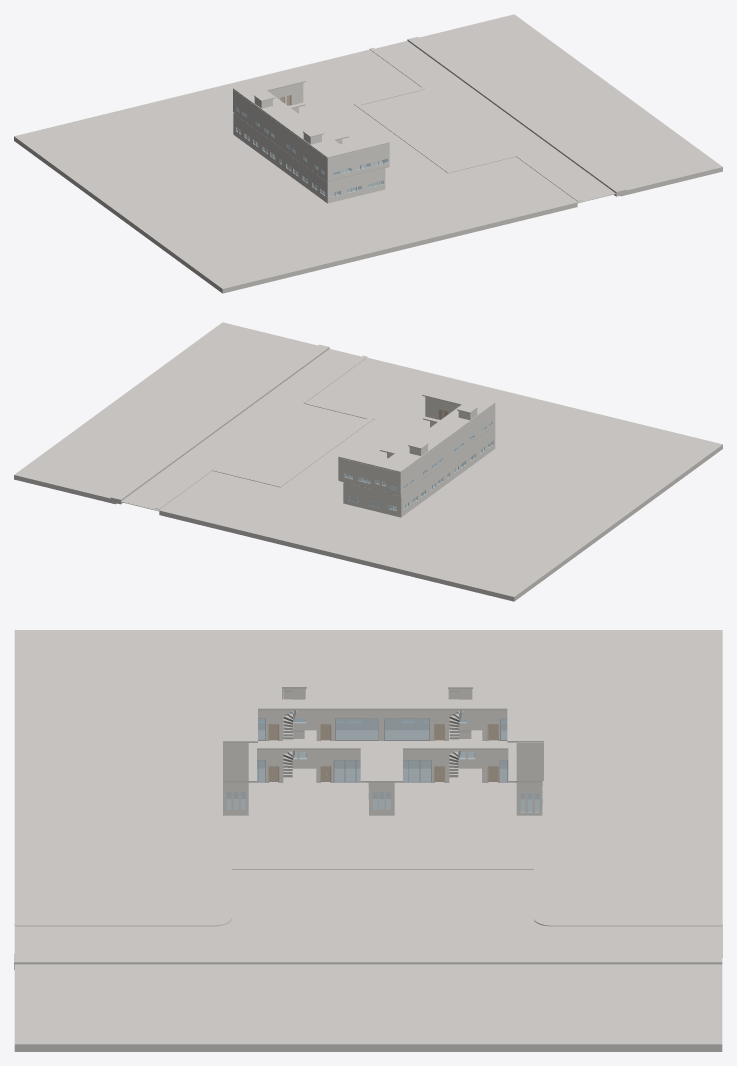
3 renders of one model, top to bottom at view 1: azimuth 30°, elevation 25°; view 2: azimuth 150°, elevation 25°; view 3: azimuth 270°, elevation 25°, orthographic. The views are drawn at different scales.
Visible parts, largest first — view 1: slab, wall, glazing; view 2: slab, wall, glazing; view 3: slab, wall, glazing, door, stair, mullion.
Part boxes in pixels (x1=…): slab: x1=14, y1=14, x2=722, y2=293; wall: x1=233, y1=82, x2=389, y2=203; glazing: x1=236, y1=107, x2=387, y2=196; slab: x1=14, y1=322, x2=722, y2=601; wall: x1=338, y1=396, x2=495, y2=517; glazing: x1=345, y1=421, x2=492, y2=510; slab: x1=14, y1=630, x2=722, y2=1051; wall: x1=223, y1=688, x2=543, y2=815; glazing: x1=222, y1=718, x2=544, y2=812; door: x1=268, y1=724, x2=498, y2=782; stair: x1=283, y1=710, x2=465, y2=777; mullion: x1=257, y1=710, x2=507, y2=782.
Bounding box in the file's own units: 114 × 12.86 × 82.56.
